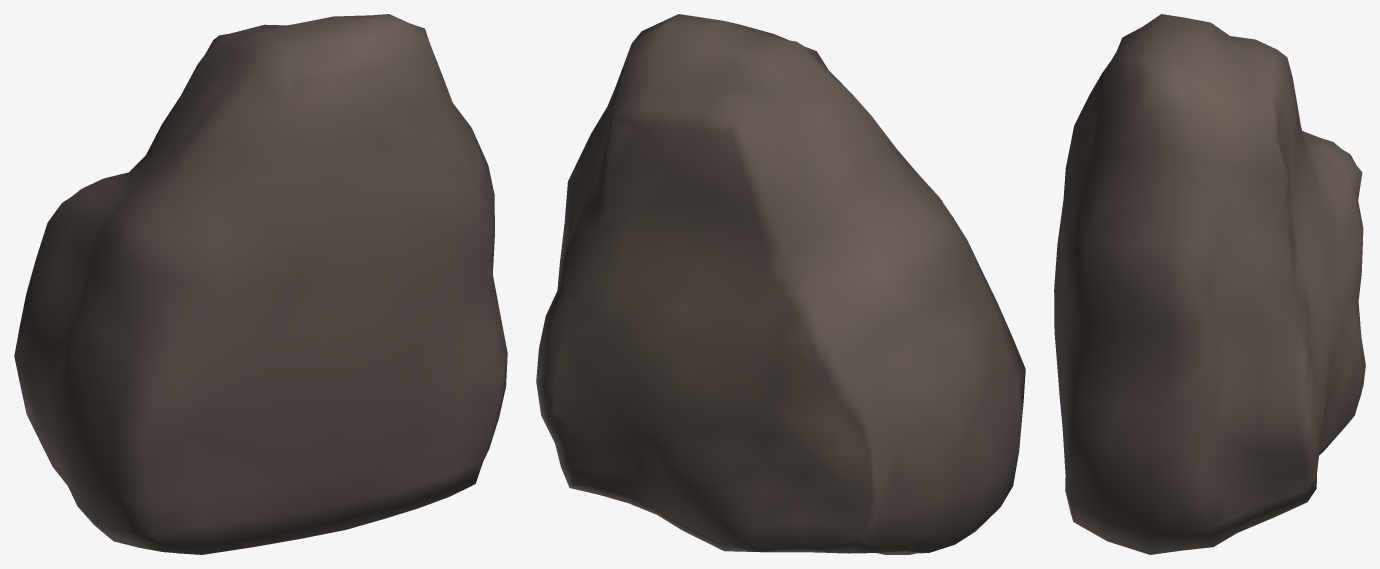
The model's file is RockMedium.002.glb.
3 renders of one model, left to right at view 1: azimuth 30°, elevation 25°; view 2: azimuth 150°, elevation 25°; view 3: azimuth 270°, elevation 25°, orthographic. The views are drawn at different scales.
Visible parts, largest first — view 1: RockMedium.002; view 2: RockMedium.002; view 3: RockMedium.002.
Part boxes in pixels (x1,y1,x2,y2): RockMedium.002: (14,14,507,554); RockMedium.002: (536,14,1025,554); RockMedium.002: (1054,14,1365,554).
Size of the model in its own units: 345 by 378 by 227.
